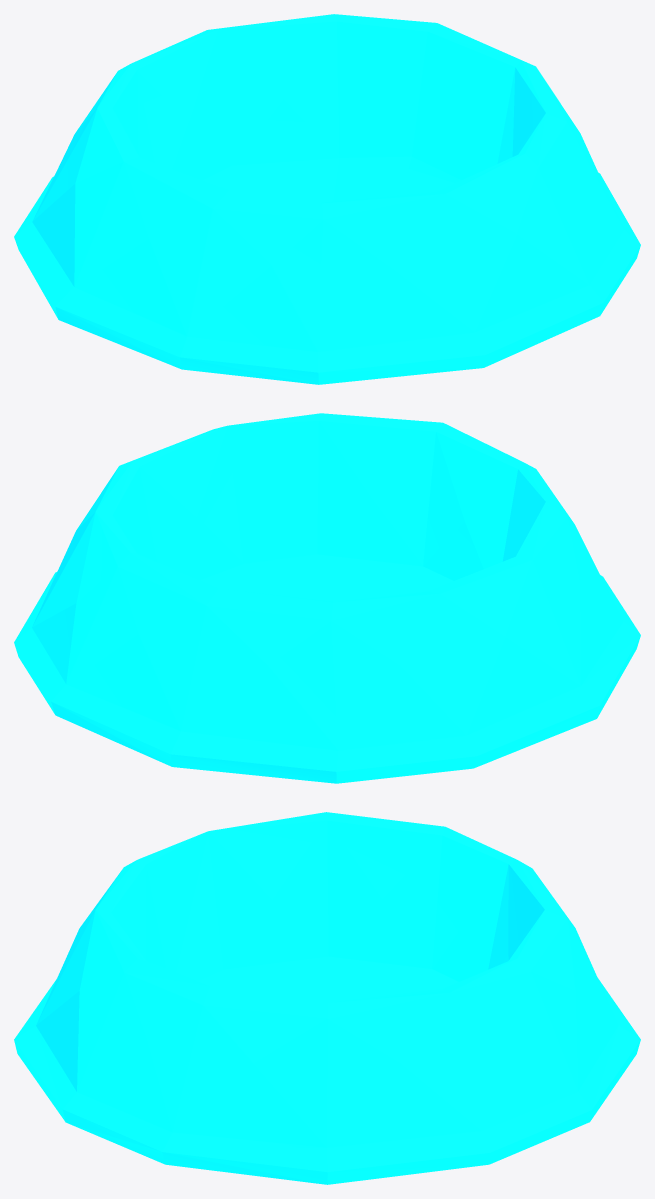
Rendered from food.glb.
The picture shows the model from 3 angles, top to bottom: view 1: azimuth 30°, elevation 25°; view 2: azimuth 150°, elevation 25°; view 3: azimuth 270°, elevation 25°; orthographic projection.
Parts seen in each view (by area): view 1: tripo_node_7f34af93-7982-42bc-a757-a384ee5c5104.001; view 2: tripo_node_7f34af93-7982-42bc-a757-a384ee5c5104.001; view 3: tripo_node_7f34af93-7982-42bc-a757-a384ee5c5104.001.
Boxes of the visible parts, x1,y1,x2,y2 form: tripo_node_7f34af93-7982-42bc-a757-a384ee5c5104.001: (14, 14, 640, 384); tripo_node_7f34af93-7982-42bc-a757-a384ee5c5104.001: (14, 413, 640, 783); tripo_node_7f34af93-7982-42bc-a757-a384ee5c5104.001: (14, 812, 640, 1184).
Size of what is drawn, in the model's own units: 1.92 by 0.494 by 1.92.
